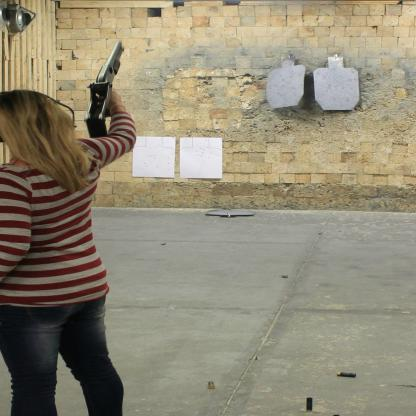gun: (84, 39, 132, 137)
